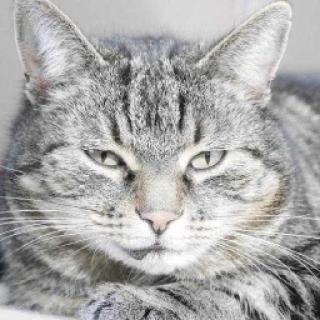cat: (13, 0, 296, 282)
nose: (132, 180, 186, 240)
